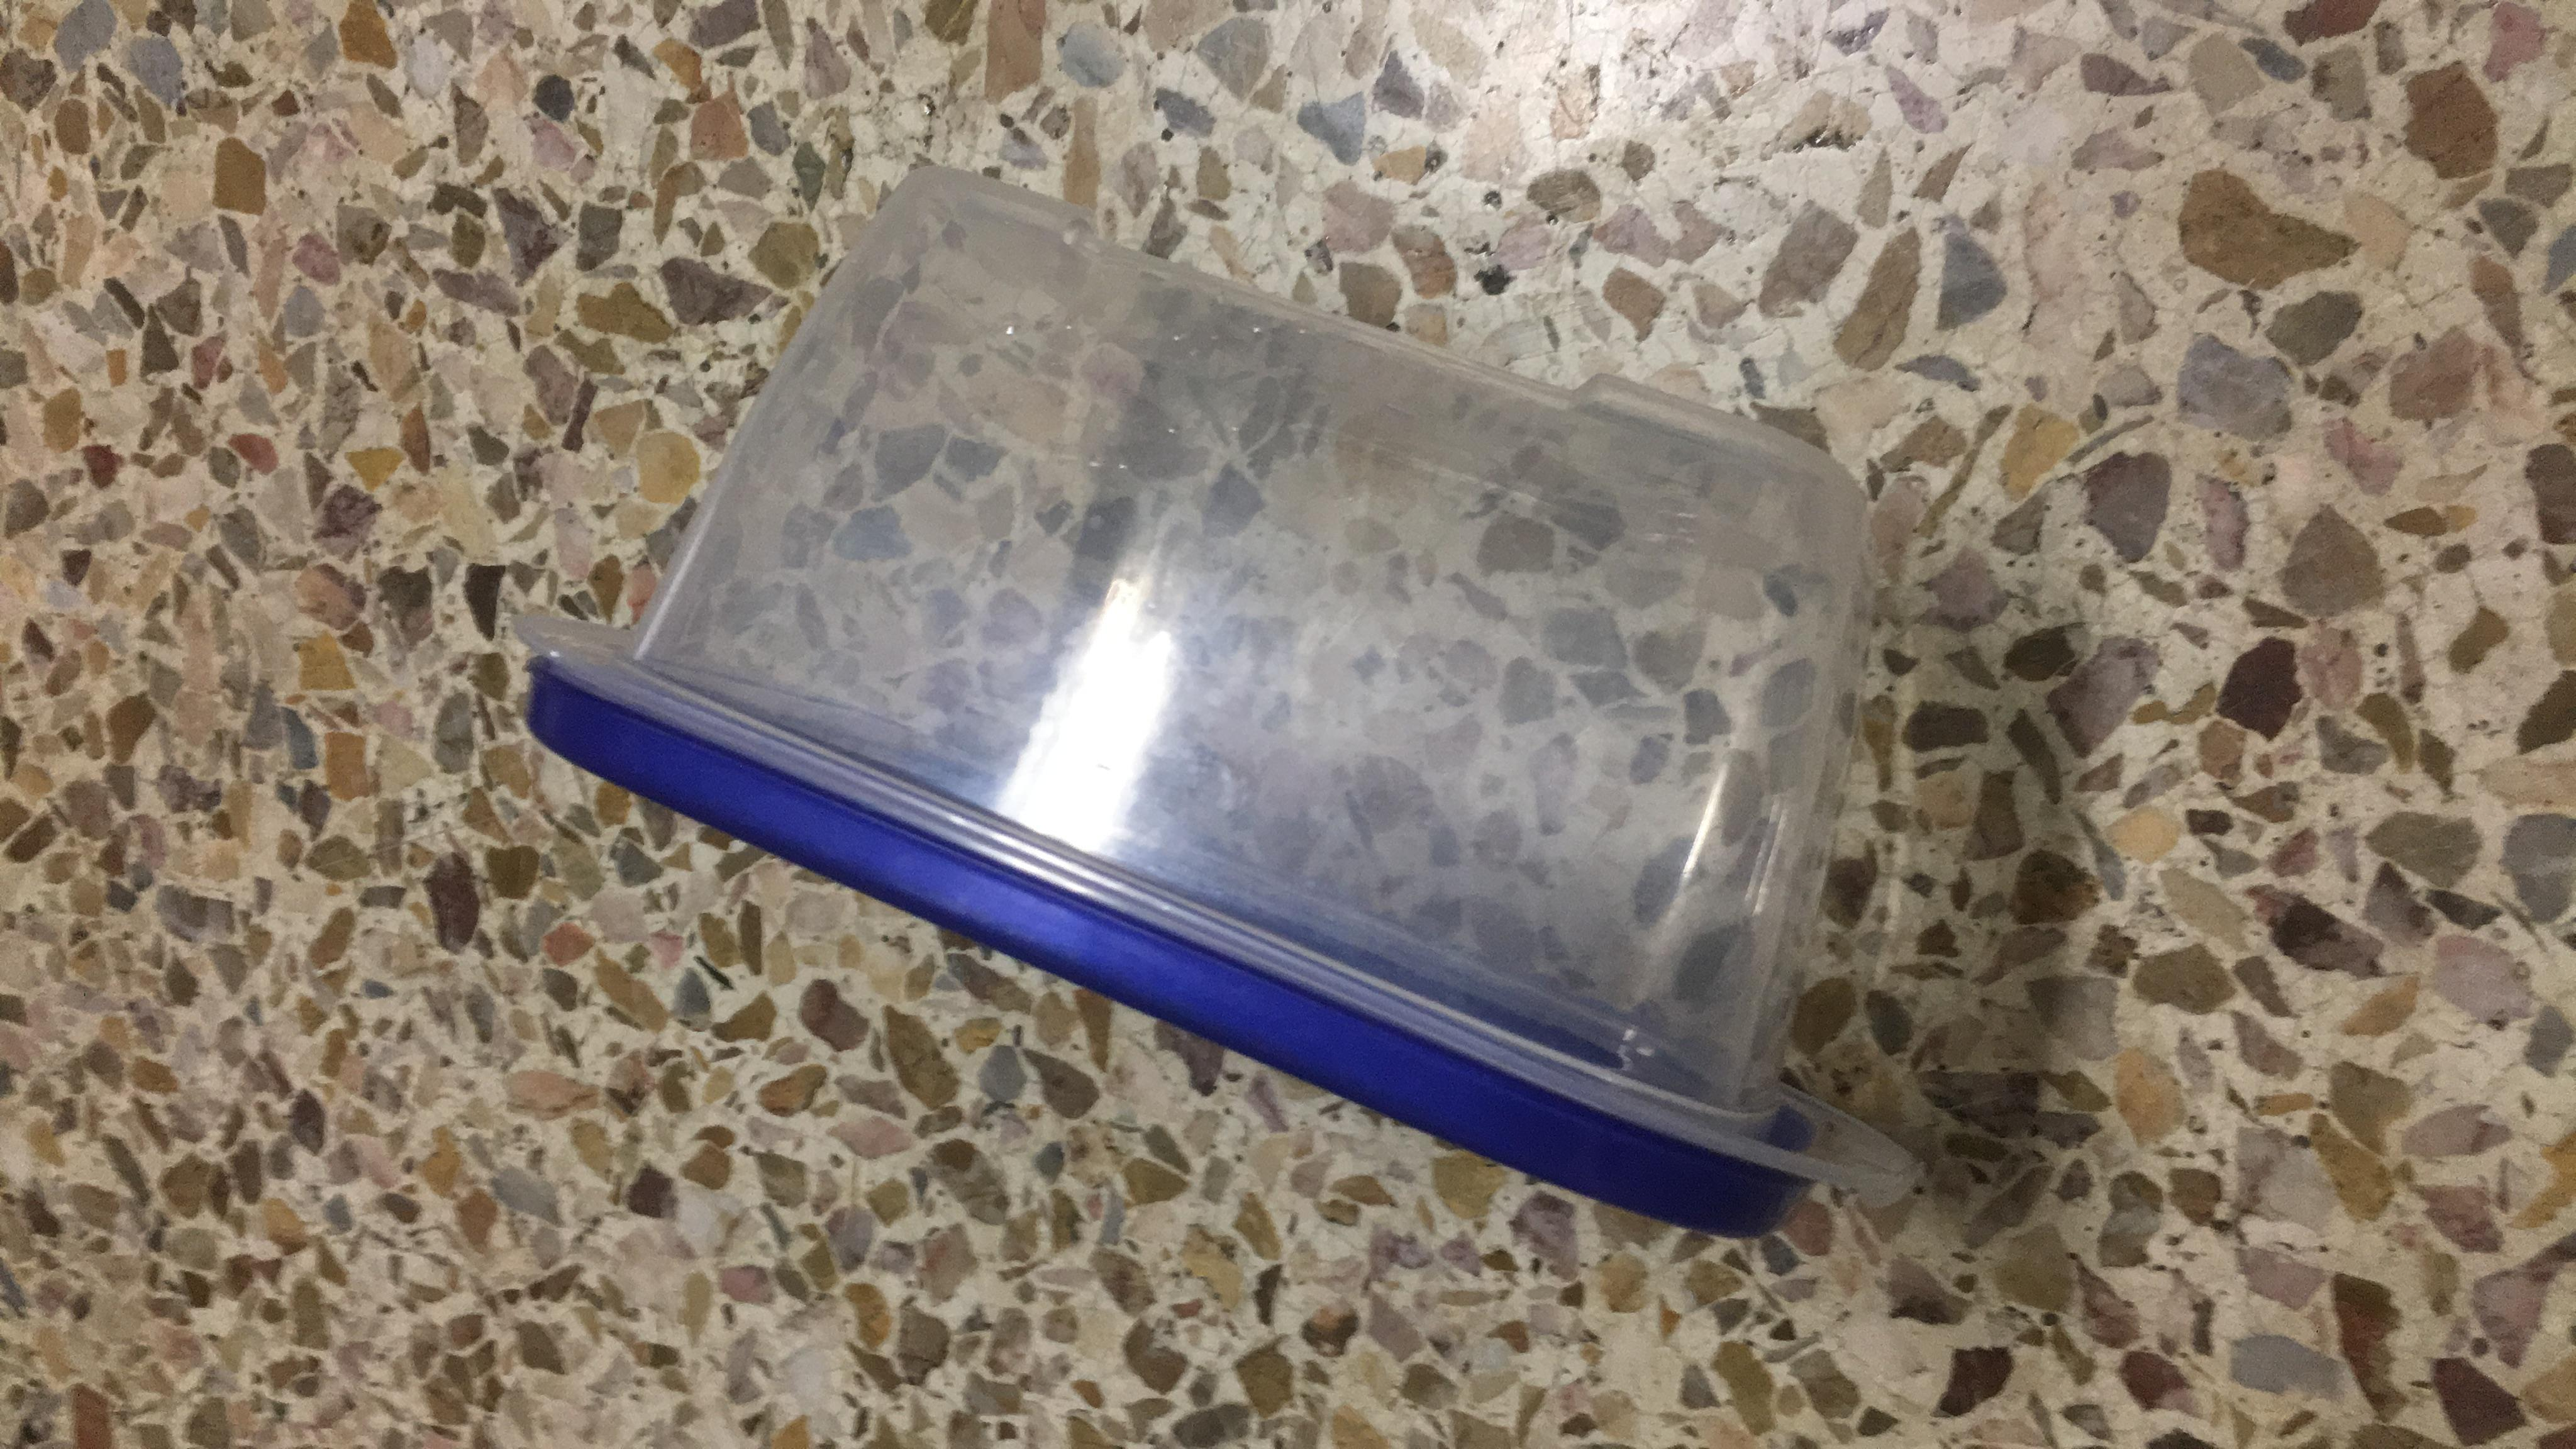bottle: (407, 283, 2325, 1100)
